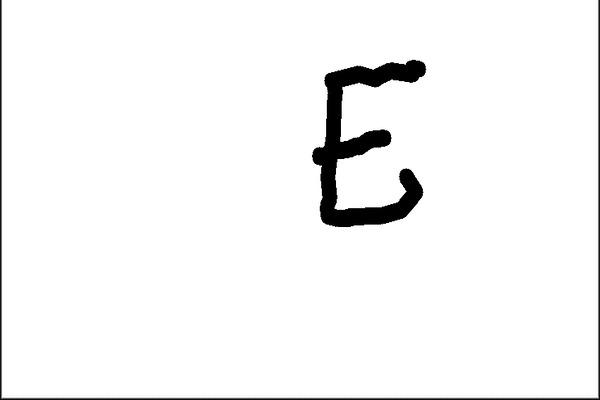E: (305, 52, 433, 234)
